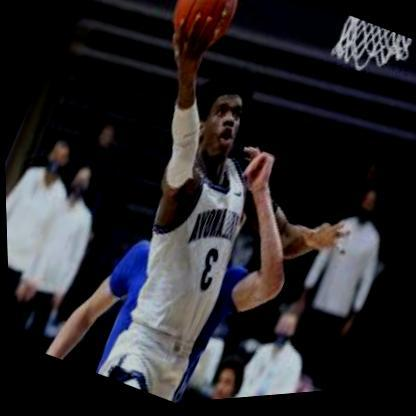basketball: (158, 0, 251, 70)
